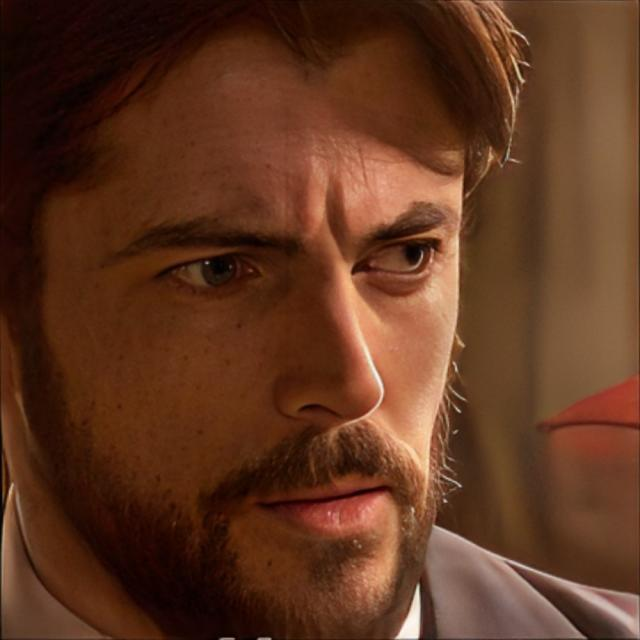anger: (38, 58, 462, 629)
